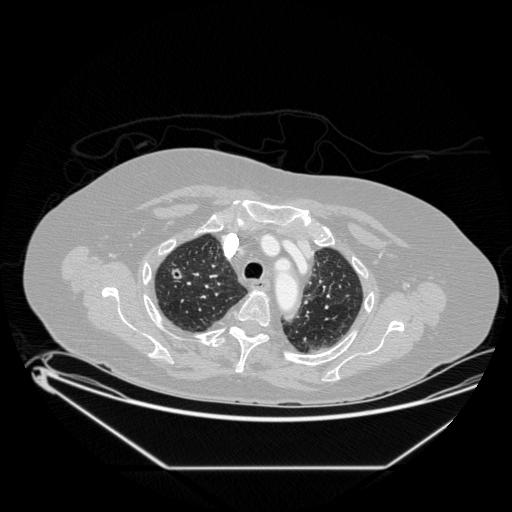nodule: (169, 267, 184, 282)
